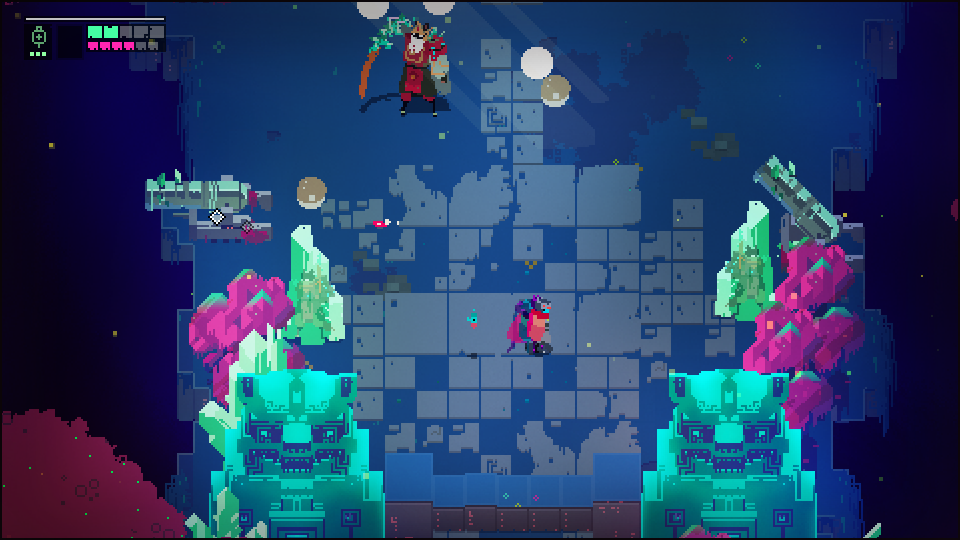hanged_man: (355, 14, 455, 124)
player: (525, 293, 555, 358)
